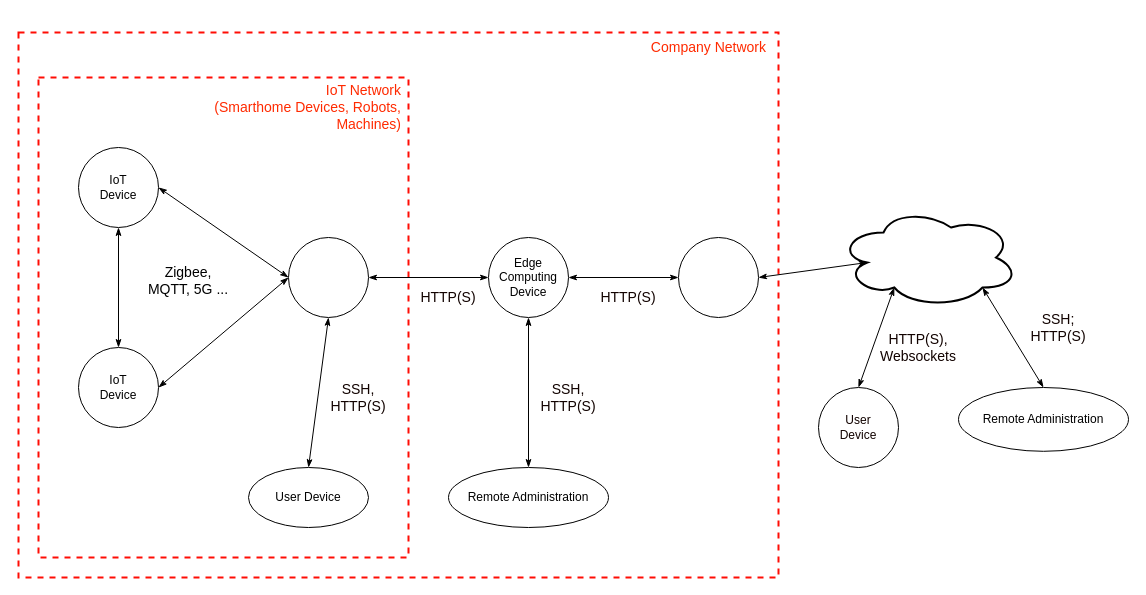
Image size: 1146x595. Some labels were removed from this diagram. The centre of each missing label's shape, as x and y in pixels:
IoT Cloud (Data Processing): pixel 928 257
IoT Gateway: pixel 328 277
Router: pixel 718 277
